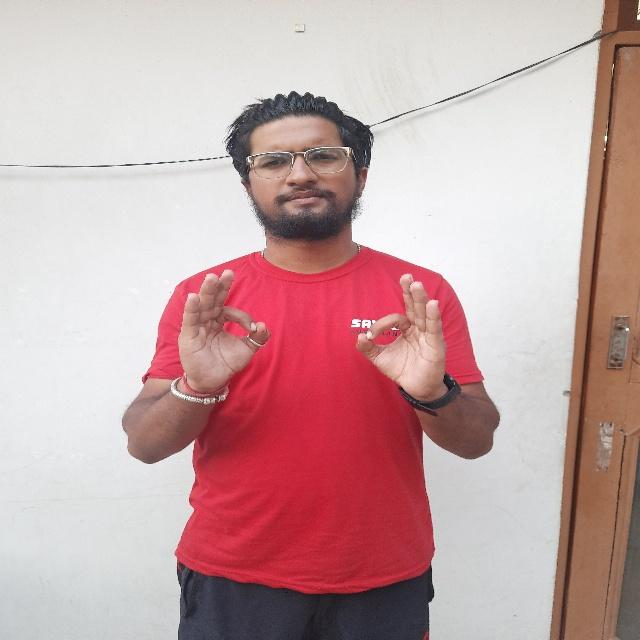Okay: (352, 257, 456, 413), (172, 258, 276, 405)
